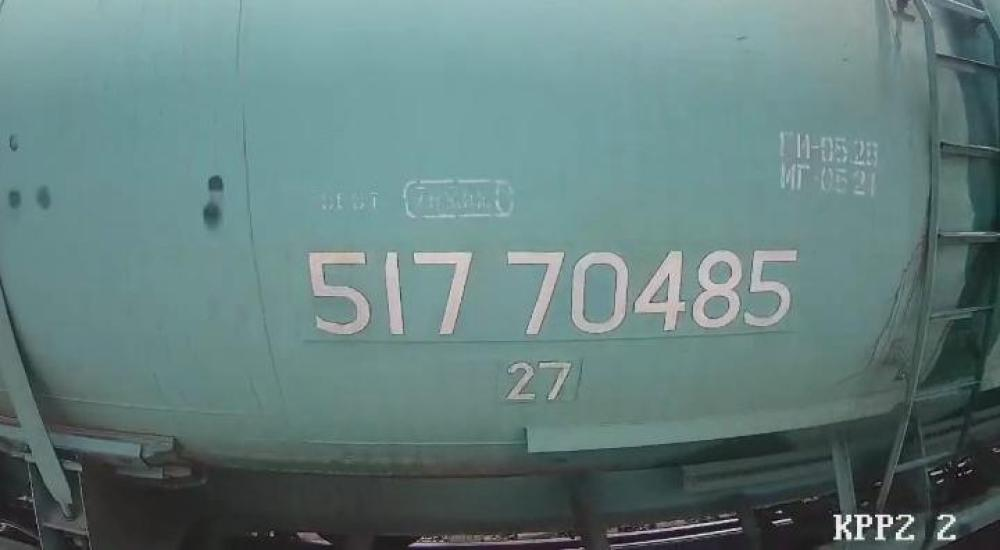Wagon-number: (306, 242, 800, 339)
